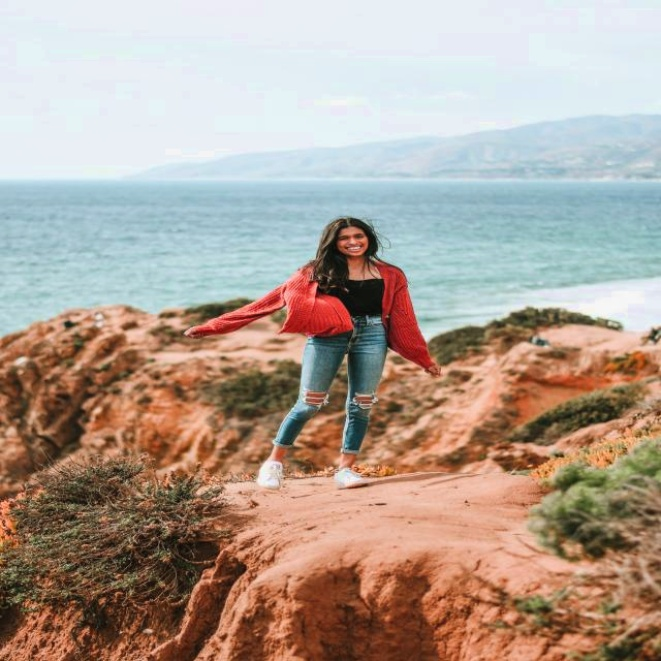ripped_pants: (277, 315, 394, 455)
